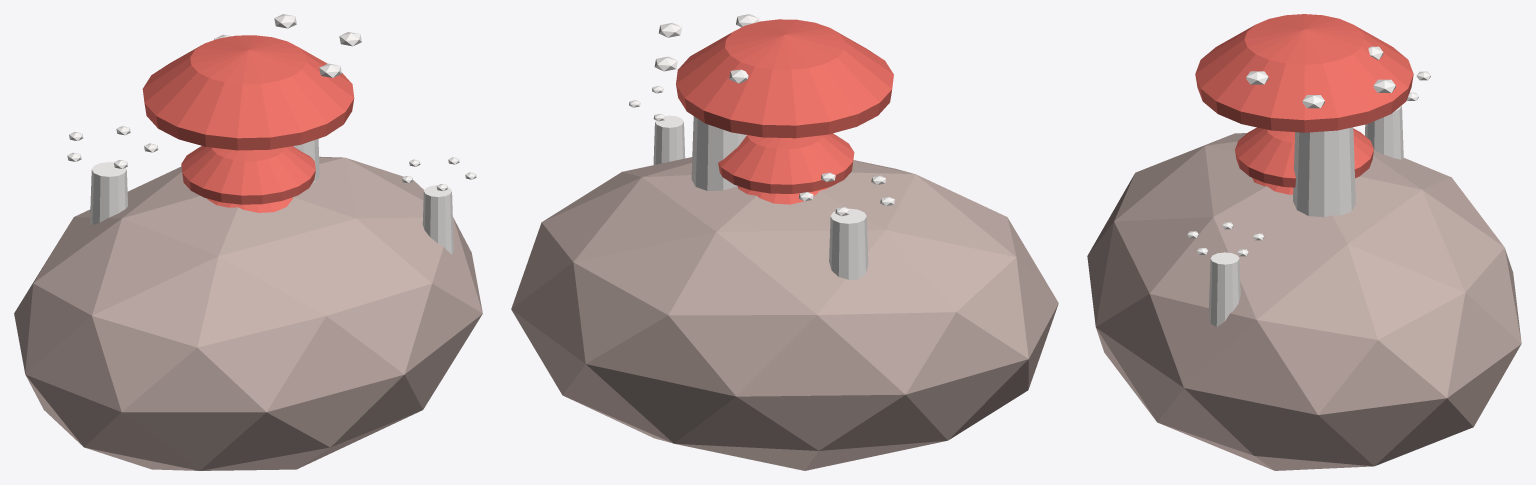
The model's file is HOB_RockMushroom.fbx.
3 renders of one model, left to right at view 1: azimuth 30°, elevation 25°; view 2: azimuth 150°, elevation 25°; view 3: azimuth 270°, elevation 25°, orthographic. The views are drawn at different scales.
Visible parts, largest first — view 1: HOB_RockMushroom; view 2: HOB_RockMushroom; view 3: HOB_RockMushroom.
Boxes of the visible parts, x1,y1,x2,y2 form: HOB_RockMushroom: [14, 14, 482, 470]; HOB_RockMushroom: [511, 14, 1058, 470]; HOB_RockMushroom: [1087, 14, 1521, 470].
Bounding box in the file's own units: 274 × 225 × 219.
